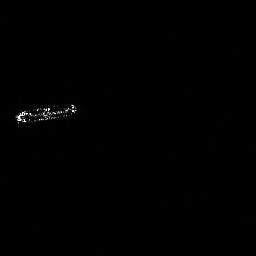ship: (15, 104, 78, 125)
